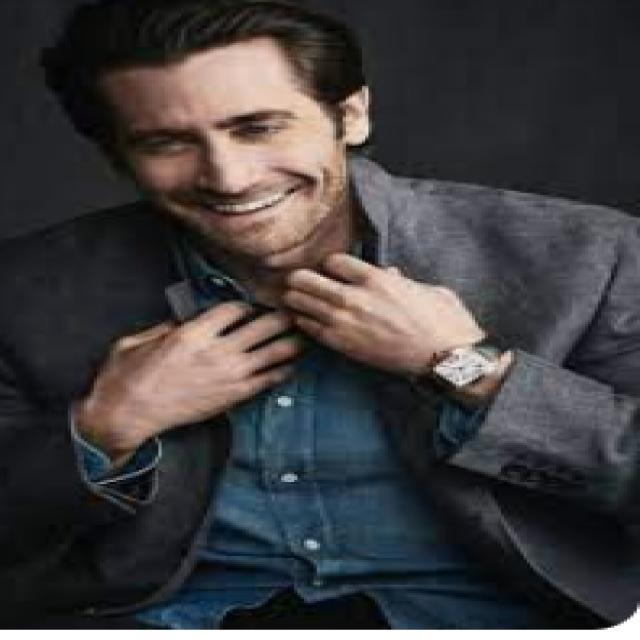Watch: (418, 332, 516, 400)
